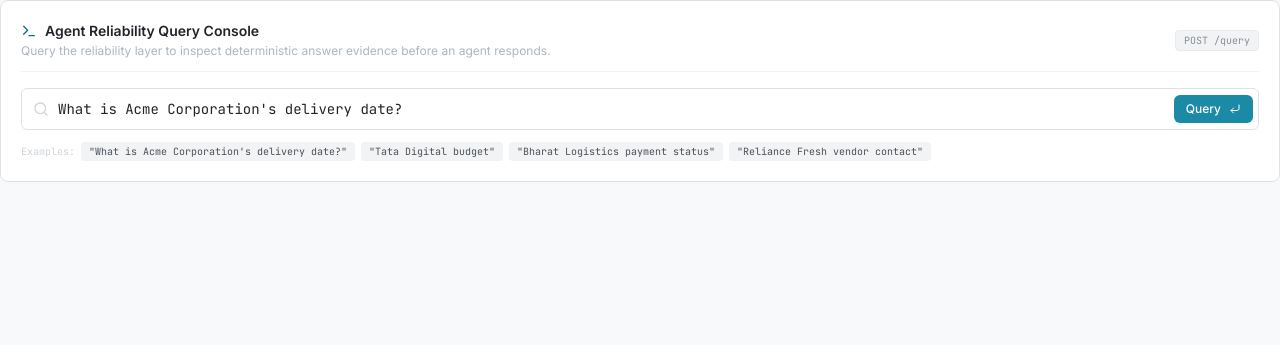
Scenario: Stage 3 UI integration › displays an ambiguous query without producing an answer
Click the button "Query": click(1213, 109) [1174,95,1253,123]
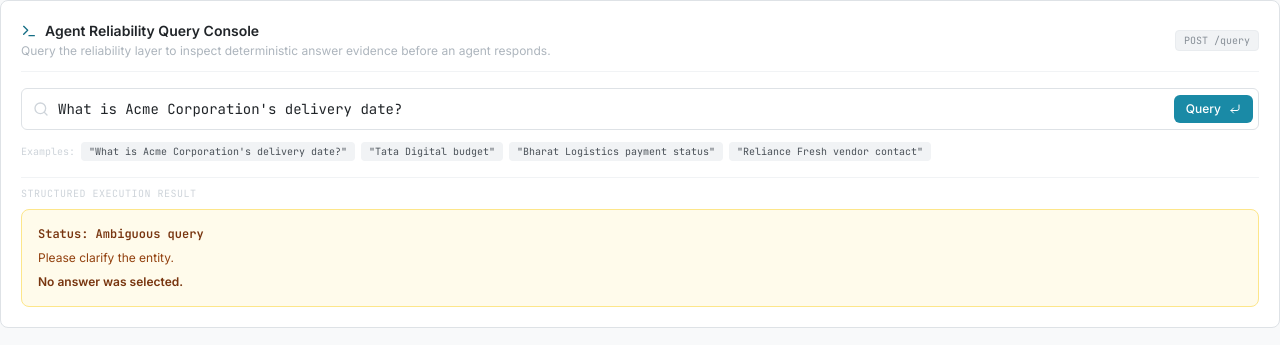
Now the text "Status: Ambiguous query" is shown, box [38,226,204,242]
Now the text "No answer was selected." is shown, box [38,274,183,289]
